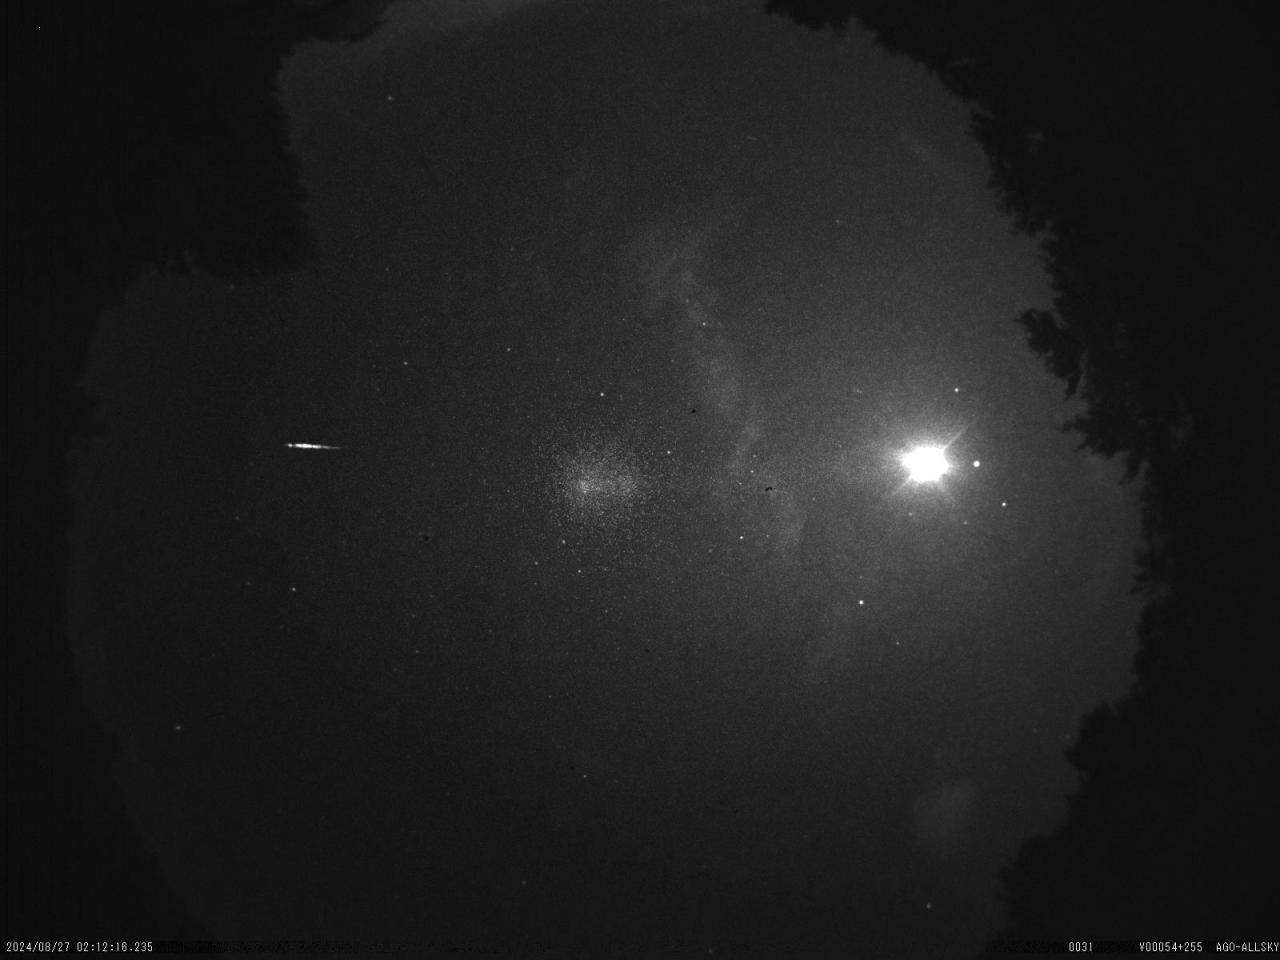Meteor: (285, 438, 344, 451)
